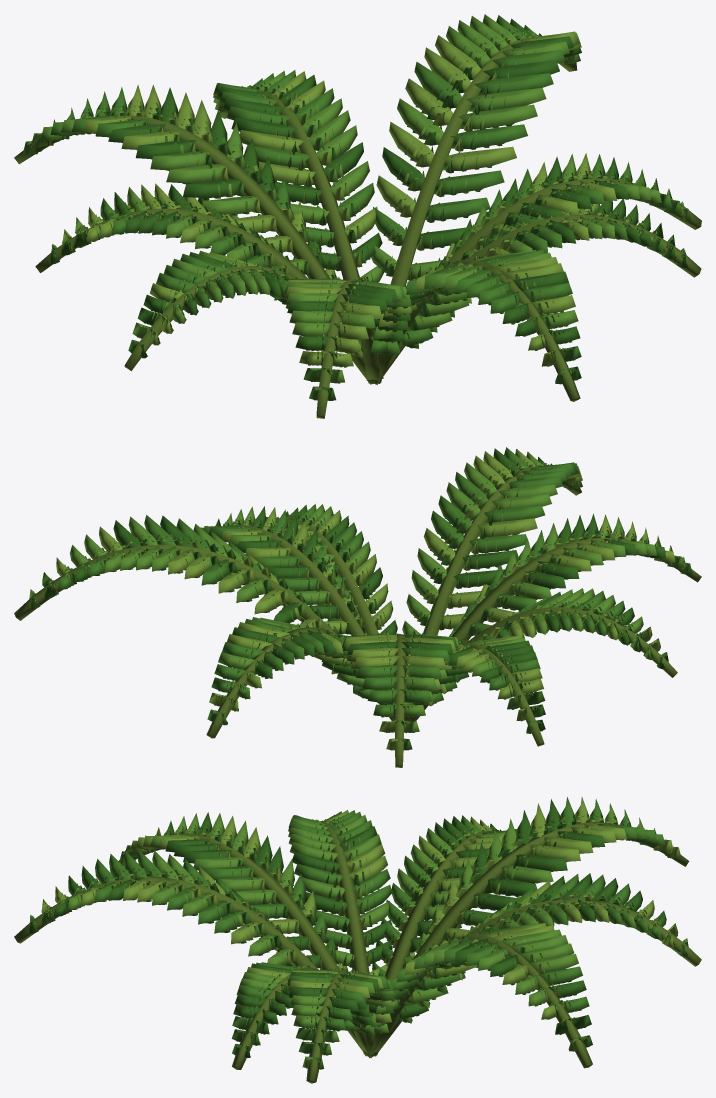
The model's file is forest-fern-0.glb.
The picture shows the model from 3 angles, top to bottom: view 1: azimuth 30°, elevation 25°; view 2: azimuth 150°, elevation 25°; view 3: azimuth 270°, elevation 25°; orthographic projection. The views are drawn at different scales.
Parts seen in each view (by area): view 1: forest-fern-0/0; view 2: forest-fern-0/0; view 3: forest-fern-0/0.
Boxes of the visible parts, x1,y1,x2,y2 form: forest-fern-0/0: (14,14,701,418); forest-fern-0/0: (14,447,701,767); forest-fern-0/0: (14,797,701,1083).
Bounding box in the file's own units: 1.66 × 0.6082 × 1.85.
